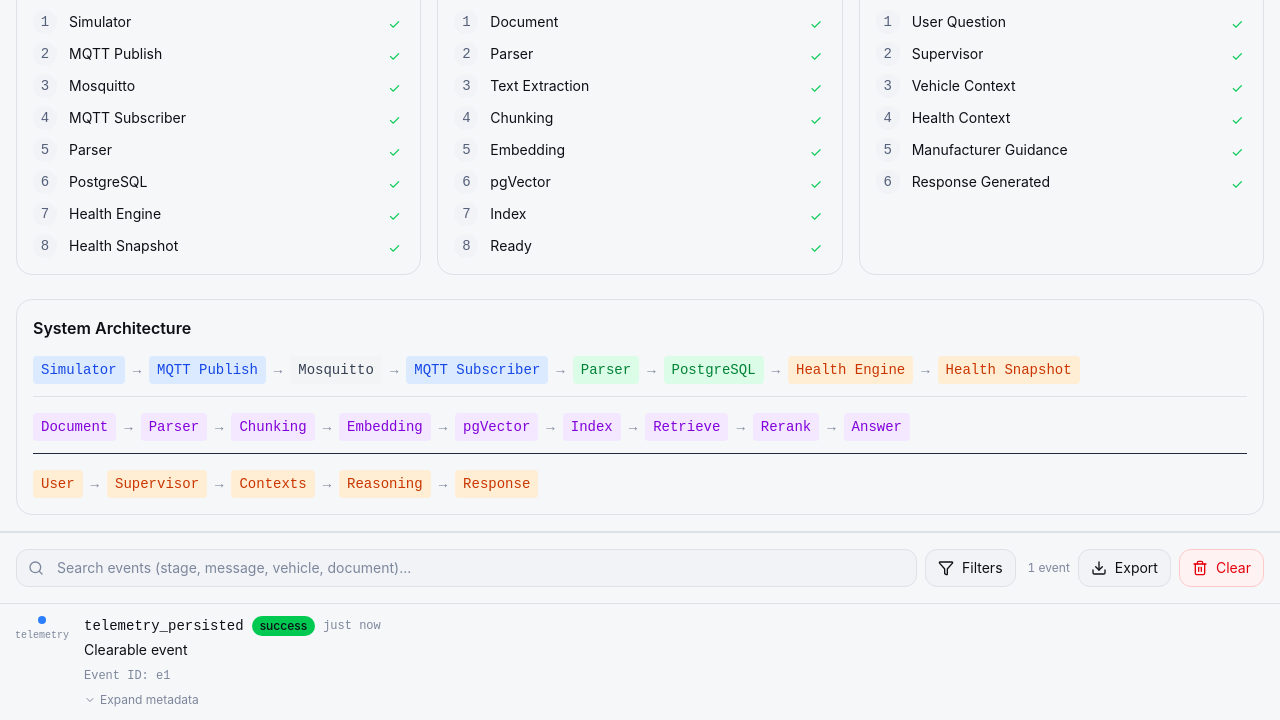
Test: WorkflowView monitor controls › clears the timeline
The image size is (1280, 720).
(page scrolled)
expect the text "Clearable event" is shown: met, box [84,641,188,658]
Click the button "Clear" at (1221, 568), box [1179,549,1264,587]
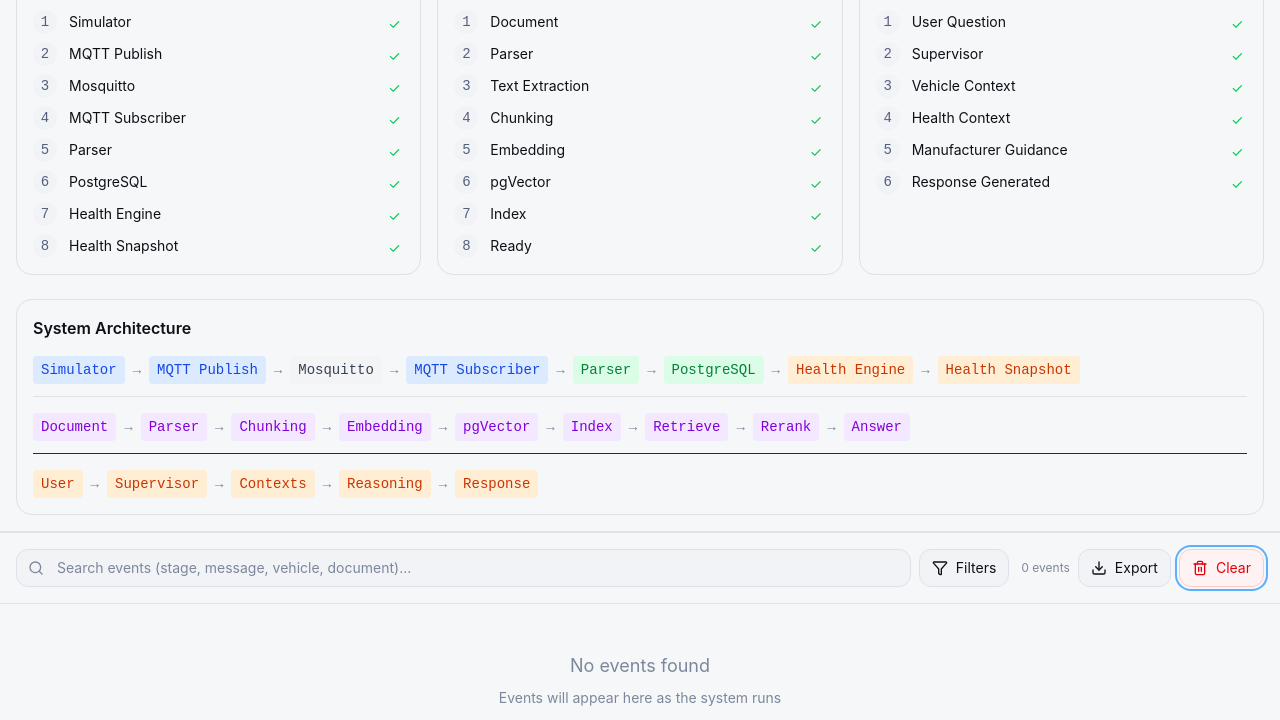
expect the text "Clearable event" is gone: met
